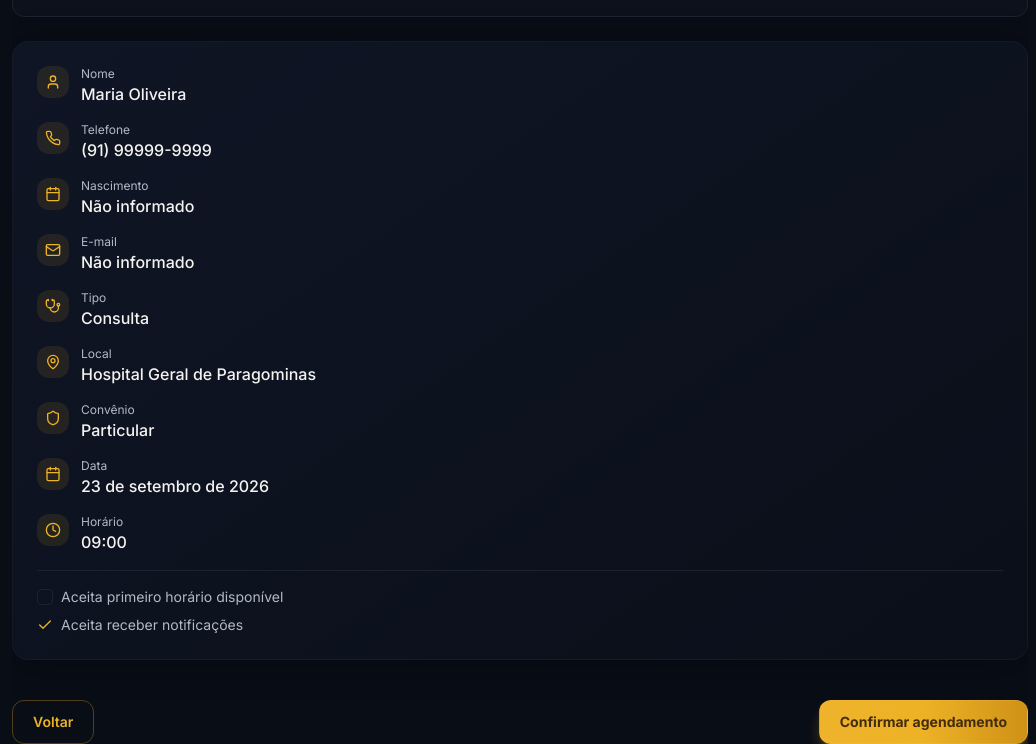
Test case: ConfirmationStep — dados pessoais adiados › valida nascimento e envia nascimento/e-mail junto da confirmação
The image size is (1036, 744).
Later steps or results of the test are not shown.
(page scrolled)
Step 1. Click the button "Confirmar agendamento" → (923, 722), box [819, 700, 1028, 743]
(page scrolled)
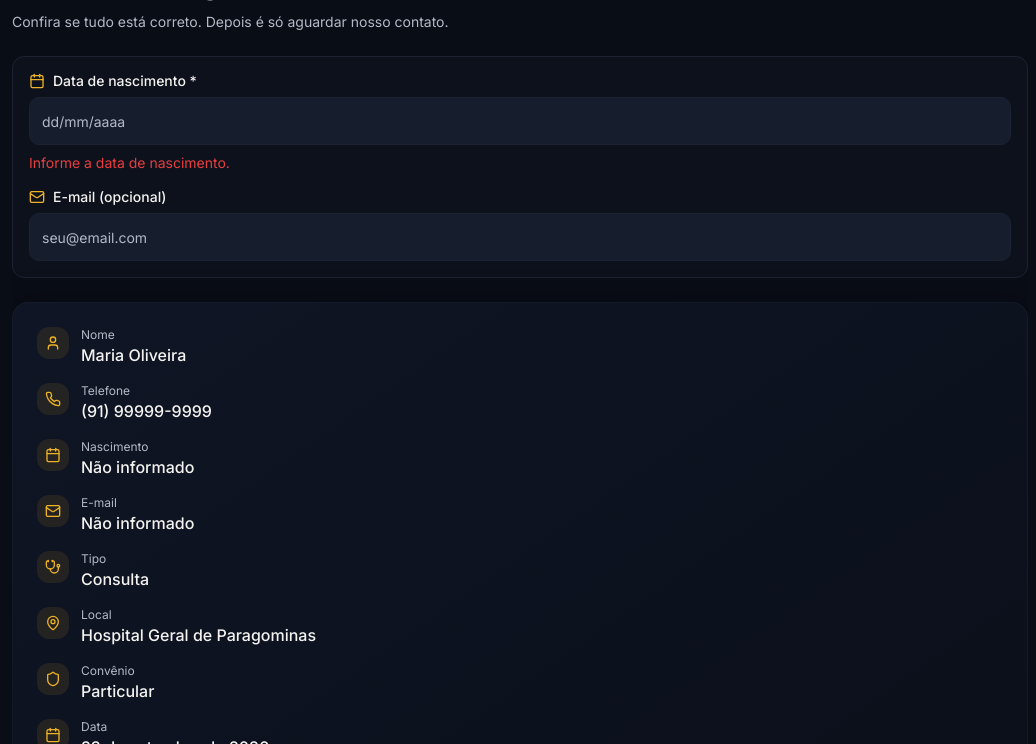
Expected: the text "Informe a data de nascimento." is shown, [29, 154, 230, 171]
